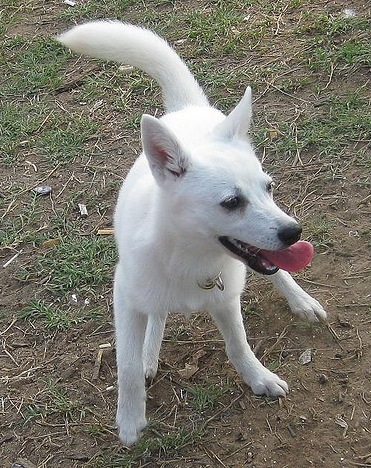dog: (40, 18, 344, 448)
